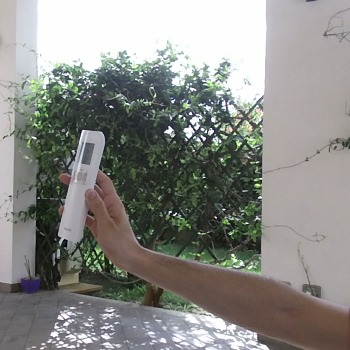hand: (87, 173, 348, 348)
